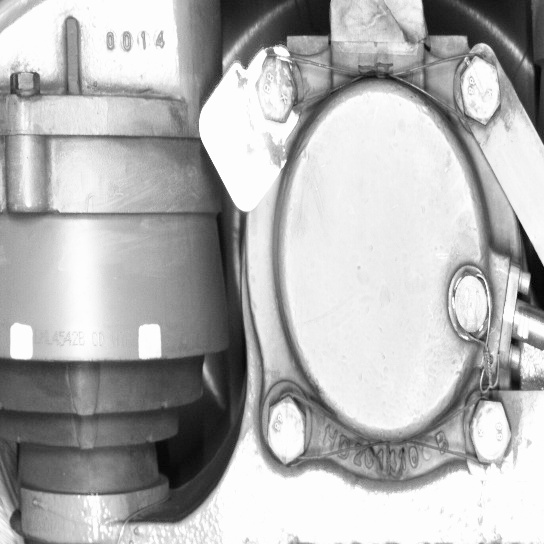IronWire: (249, 46, 507, 132), (260, 388, 516, 473)
Screw: (454, 47, 506, 131), (463, 392, 516, 473), (260, 388, 311, 471), (249, 52, 303, 126), (446, 265, 492, 343)
